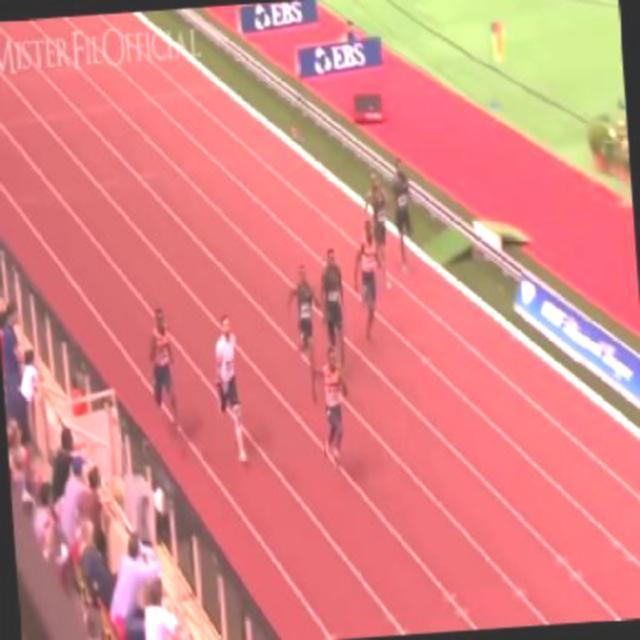non-fight: (208, 314, 250, 469), (142, 304, 185, 454), (308, 347, 354, 473), (348, 221, 388, 350), (315, 243, 353, 369), (282, 259, 324, 370), (385, 150, 418, 284), (362, 168, 395, 294)
